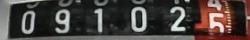digits: (168, 6, 186, 32), (130, 6, 148, 31), (54, 9, 70, 33), (20, 10, 36, 33), (208, 13, 224, 36), (94, 7, 105, 33)
